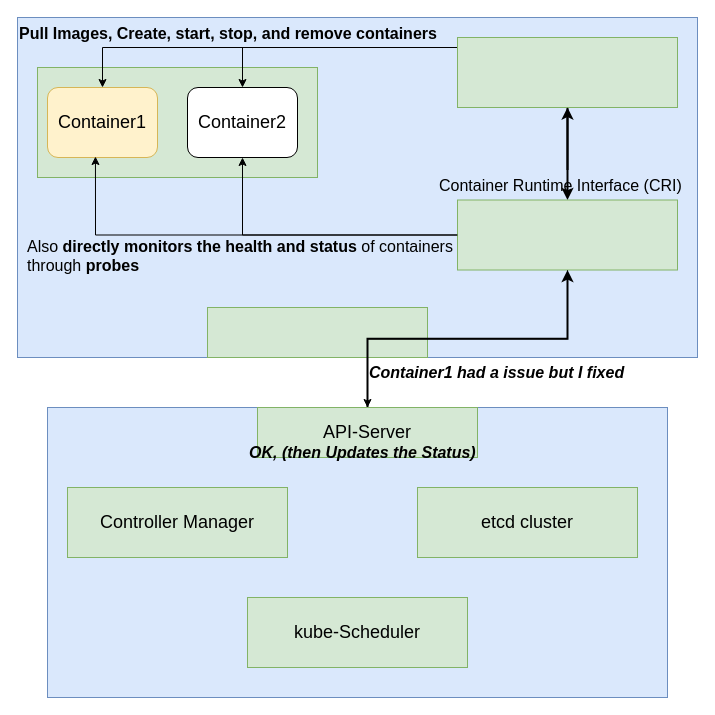
This 715x715 diagram has some shape labels left out. Each missing label, with the centre of its shape:
Container Runtime (e.g Docker, containerd): the point at 567,72
Kube-Proxy: the point at 317,332
Kubelet: the point at 567,234
